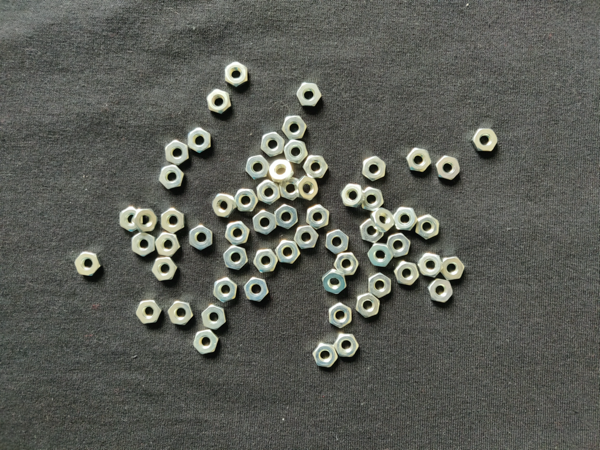nut: (75, 251, 102, 276), (136, 300, 163, 325), (161, 208, 186, 235), (152, 257, 178, 282), (168, 301, 194, 326), (193, 330, 219, 355), (202, 304, 227, 330), (213, 277, 238, 303), (269, 159, 295, 184), (334, 333, 360, 358), (418, 253, 444, 278), (363, 155, 387, 182), (159, 165, 184, 190), (155, 232, 180, 257), (225, 221, 250, 246), (244, 277, 269, 302), (246, 155, 271, 180), (294, 225, 319, 250), (294, 176, 319, 201), (313, 343, 338, 368), (370, 208, 395, 233), (415, 215, 440, 240), (406, 148, 431, 173), (436, 155, 461, 180), (165, 140, 189, 166), (189, 225, 213, 251), (207, 89, 231, 115), (223, 246, 249, 270), (253, 249, 279, 273), (253, 210, 277, 236), (261, 132, 285, 158), (275, 240, 301, 264), (323, 269, 347, 295), (356, 293, 380, 319), (394, 262, 420, 286), (427, 279, 453, 303), (131, 209, 158, 232), (367, 244, 394, 267), (132, 232, 156, 257), (212, 194, 237, 218), (282, 116, 307, 140), (297, 83, 322, 107), (306, 205, 330, 230), (368, 273, 392, 298), (329, 303, 352, 329), (472, 128, 498, 151), (284, 140, 308, 164), (341, 184, 365, 208), (360, 219, 384, 243), (441, 257, 465, 281), (188, 128, 211, 153), (225, 62, 248, 87), (234, 189, 259, 212), (257, 180, 280, 205), (275, 204, 298, 229), (303, 155, 328, 178), (326, 230, 349, 255), (334, 253, 359, 276), (388, 233, 411, 258), (393, 208, 418, 231), (362, 187, 384, 213), (119, 206, 137, 232), (280, 177, 299, 201)
